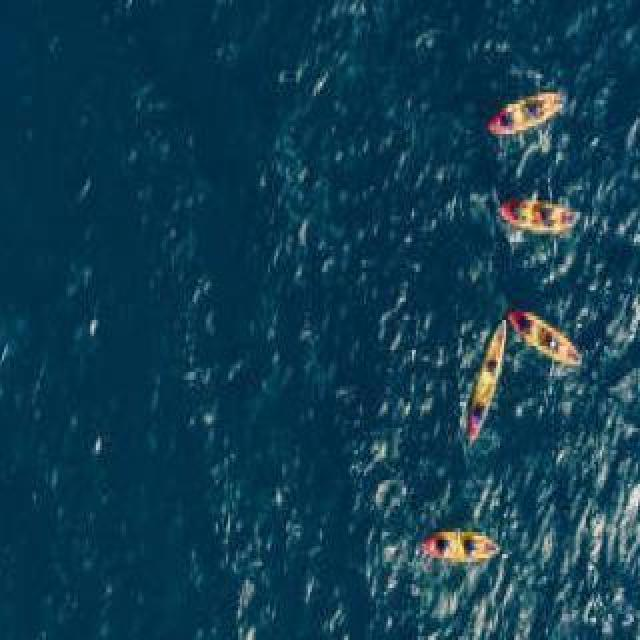kayak: (468, 320, 504, 435), (489, 89, 563, 130), (422, 528, 498, 562)
